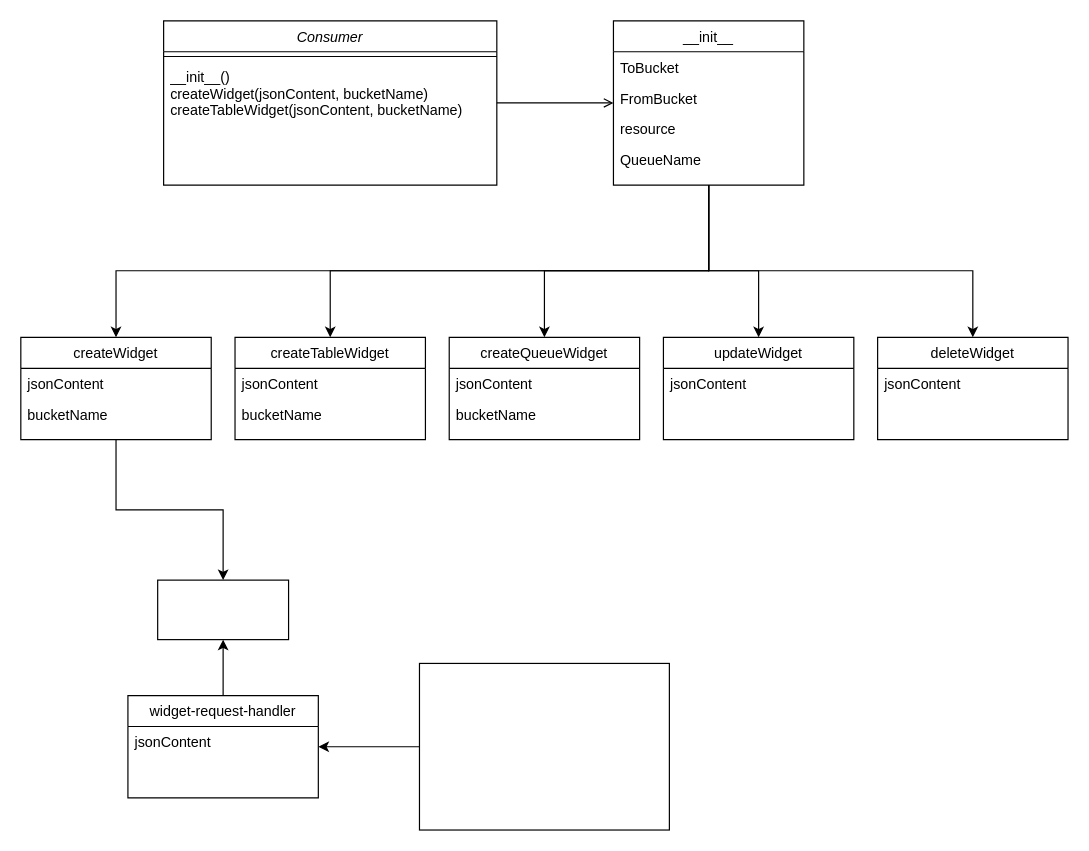
This 1089x851 diagram has some shape labels left out. Each missing label, with the centre of its shape:
"request-queue" belongs at point 222,609.
"widget-request-api + POST(jsonString): json response" belongs at point 543,746.
